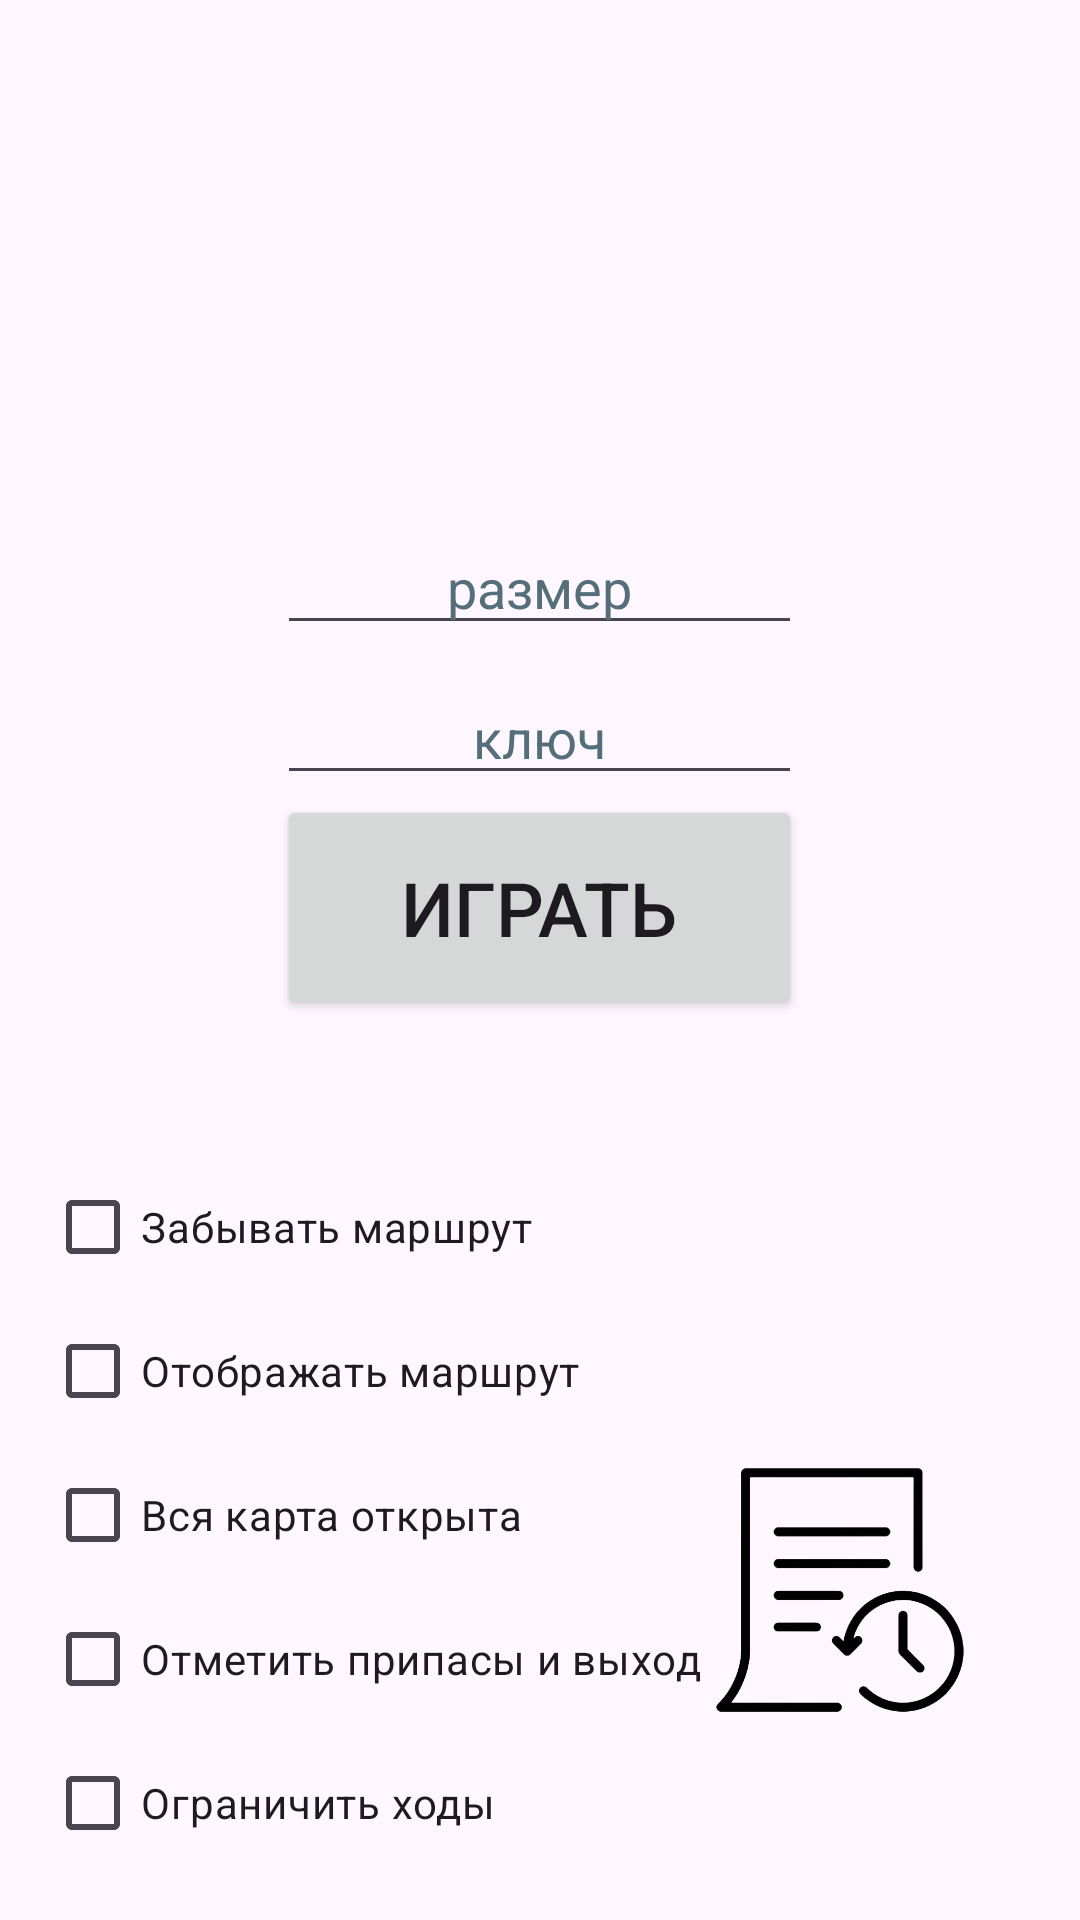

Icon bounding boxes for this 1080x1920 phone screenshot, format [left=x1, top=y1, right=x2, bottom=y2]:
история: [left=716, top=1468, right=964, bottom=1712]
